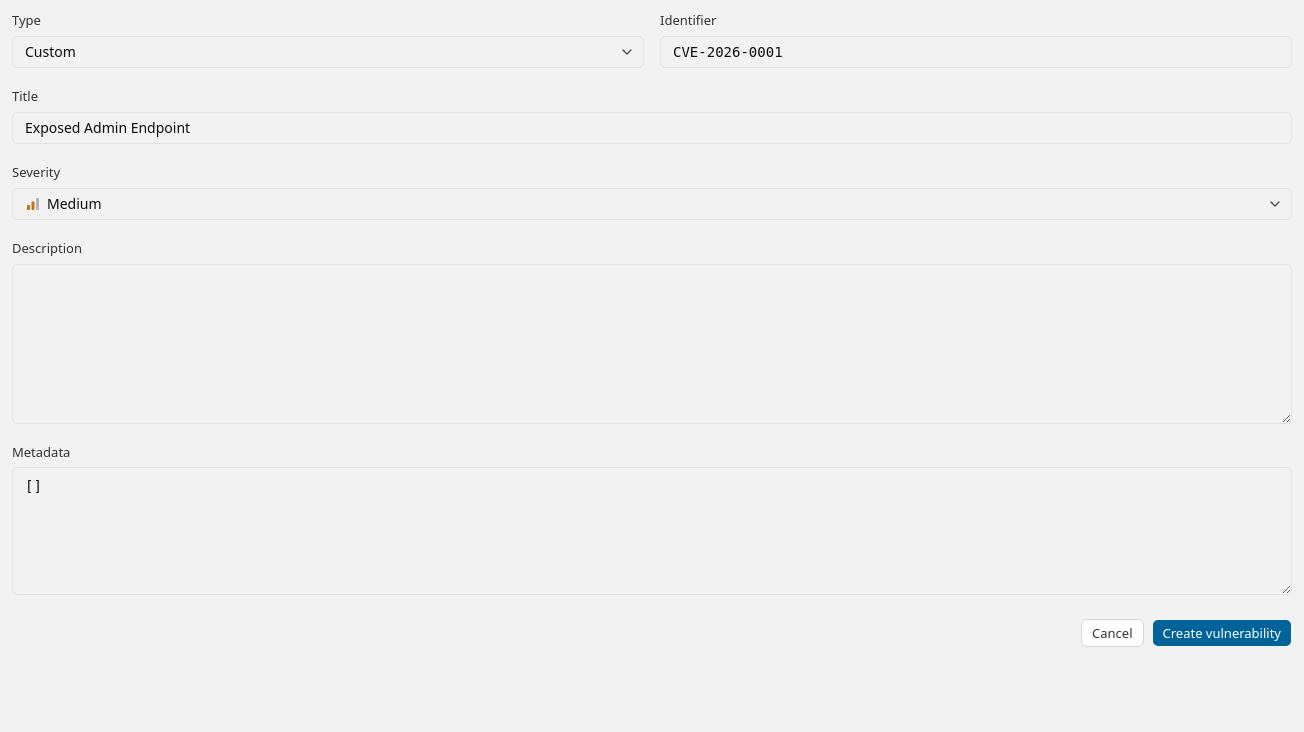
VulnerabilityForm › rejects metadata that is not a JSON object
Step 1. Click the button "Create vulnerability" → (1222, 633), box [1152,619,1292,647]
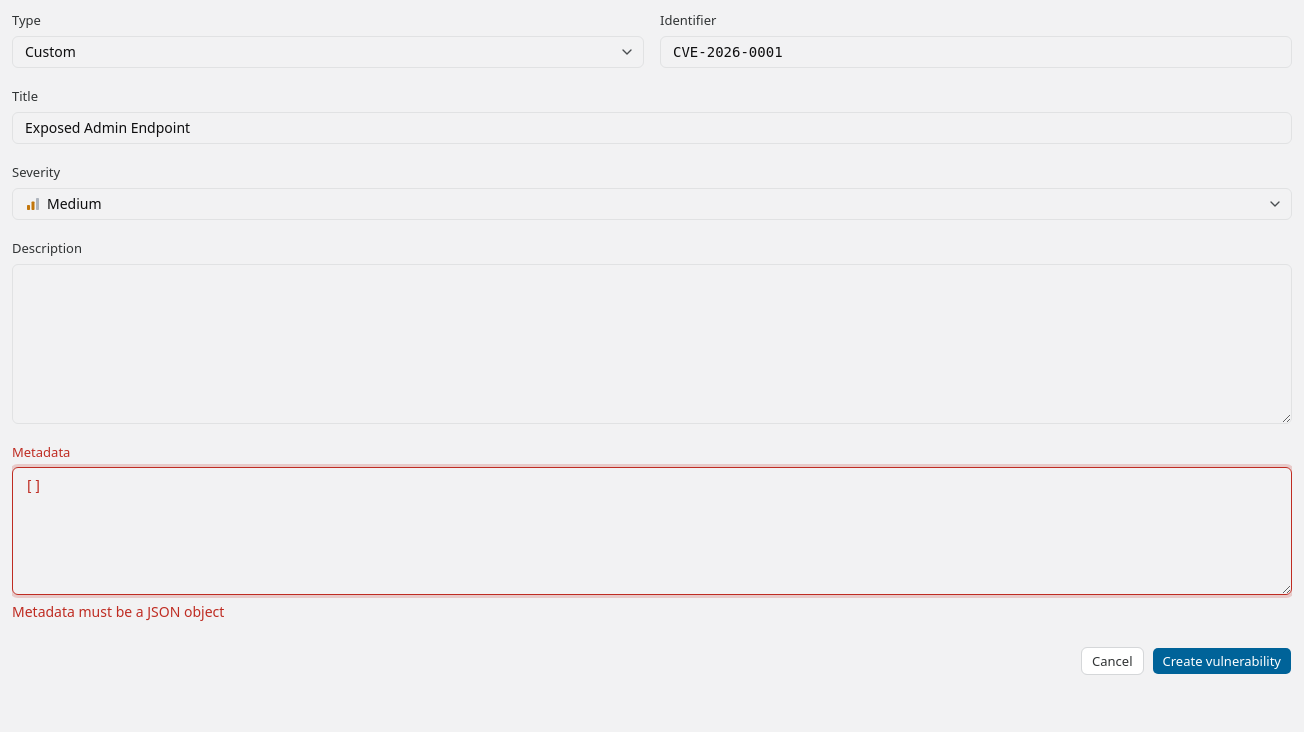
Now the text "Metadata must be a JSON object" is shown, box [12,602,224,621]
